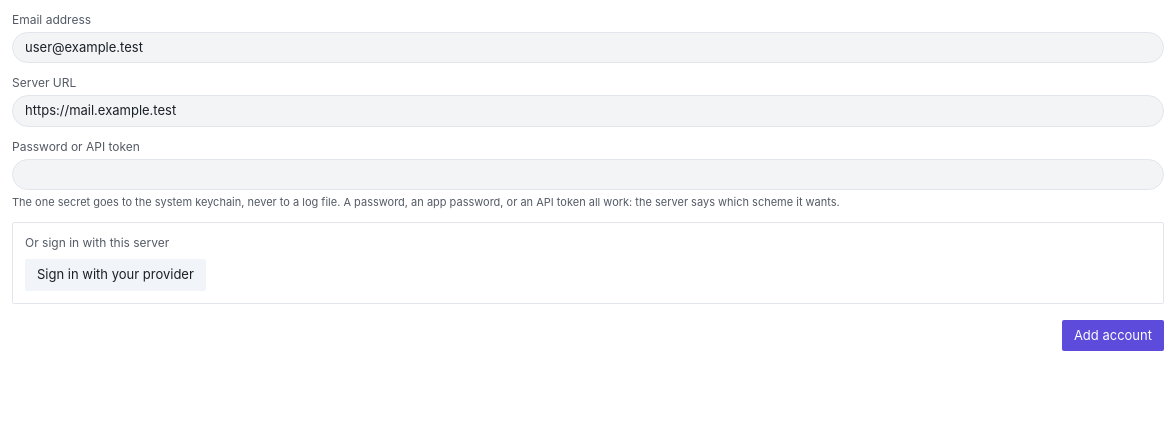
Test: a begun jmap sign-in › a refused completion shows the typed sentence beside the buttons
The width and height of the screenshot is (1176, 442).
Click the button "Sign in with your provider" at (115, 275), box [25,260,206,291]
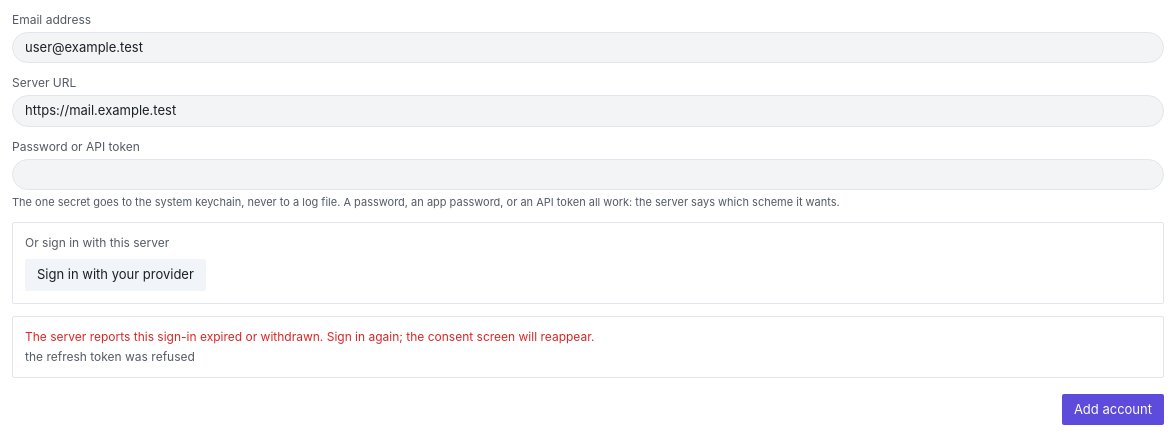
Result: the text "reports this sign-in expired or withdrawn" is shown at [25,329,594,344]
